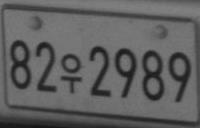2: (34, 41, 57, 92), (89, 45, 110, 96)
8: (141, 49, 164, 101), (9, 39, 31, 89)
9: (167, 50, 191, 102), (113, 47, 137, 98)
우: (60, 52, 82, 94)
